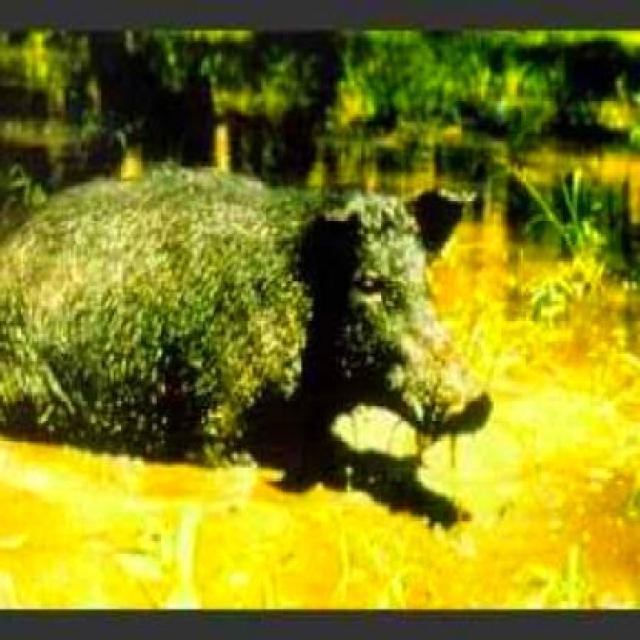Boar: (1, 102, 514, 510)
